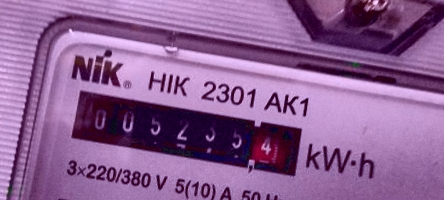0: (90, 105, 110, 133), (119, 107, 137, 134)
2: (174, 115, 191, 141)
3: (202, 117, 219, 144)
4: (257, 130, 276, 158)
5: (228, 122, 247, 151), (146, 110, 165, 138)
screen: (60, 80, 316, 186)
